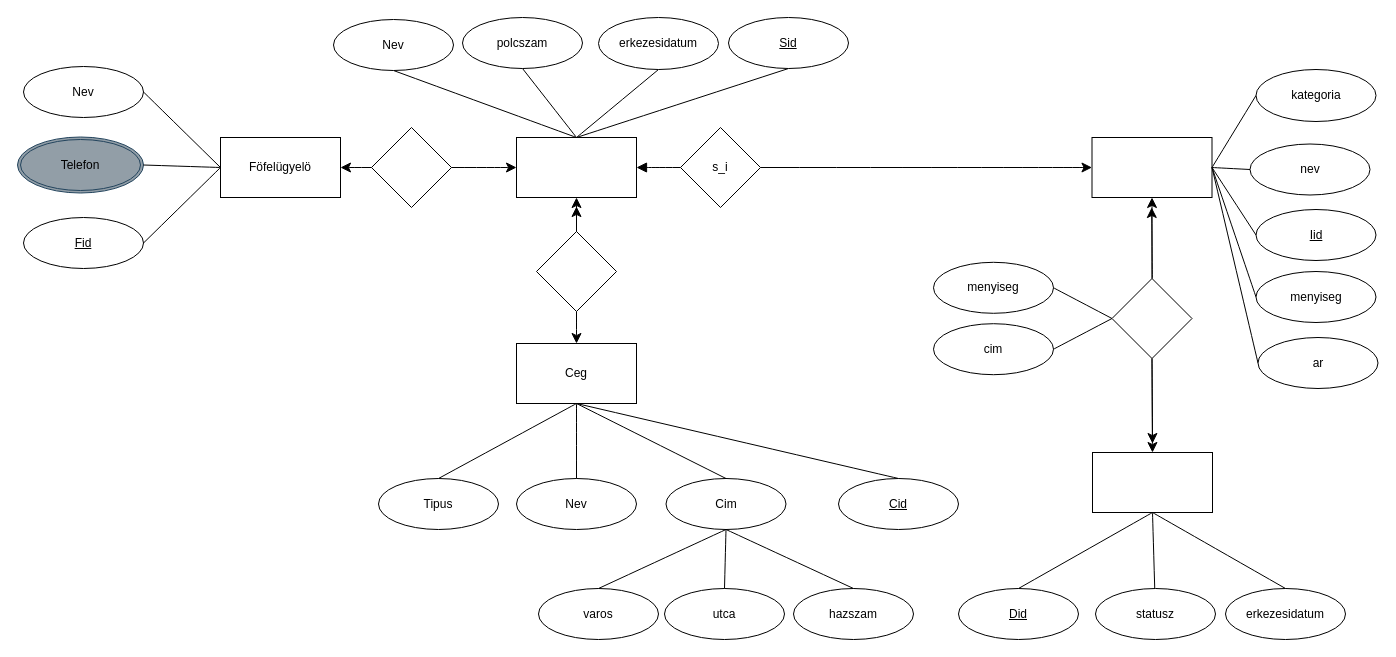
This 1396x657 diagram has some shape labels left out. The shapes that lost their labels are listed below. From the top down, each one's box as (x1, y1, x2, y2) in pixels, then its label:
(370, 126, 452, 208): s_f
(516, 136, 636, 198): Tar
(1091, 136, 1212, 198): Termek
(536, 230, 616, 312): c_s
(1111, 278, 1192, 358): Rendeles
(1092, 452, 1212, 512): Szallitas
